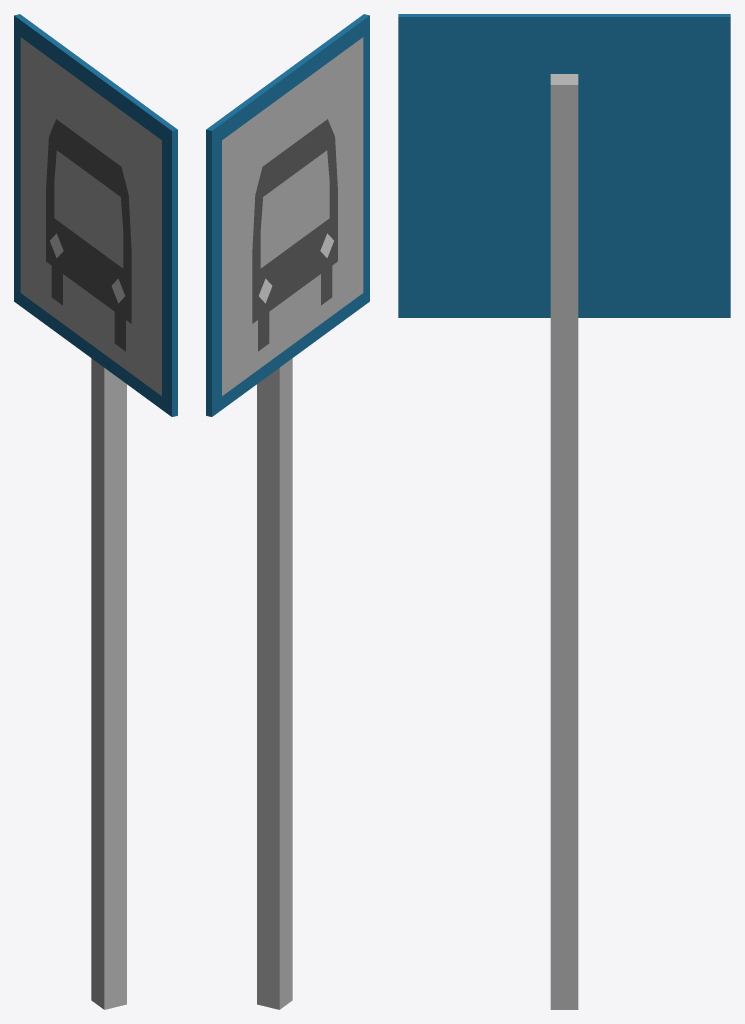
The model's file is bus_stop_01.fbx.
The picture shows the model from 3 angles, left to right: view 1: azimuth 30°, elevation 25°; view 2: azimuth 150°, elevation 25°; view 3: azimuth 270°, elevation 25°; orthographic projection. The views are drawn at different scales.
Visible parts, largest first — view 1: bus_stop_01; view 2: bus_stop_01; view 3: bus_stop_01.
Part boxes in pixels (<box>): bus_stop_01: <box>14,14,177,1009</box>; bus_stop_01: <box>206,14,369,1009</box>; bus_stop_01: <box>398,14,730,1009</box>.
Size of the model in its own units: 0.1331 by 3.61 by 1.11.
